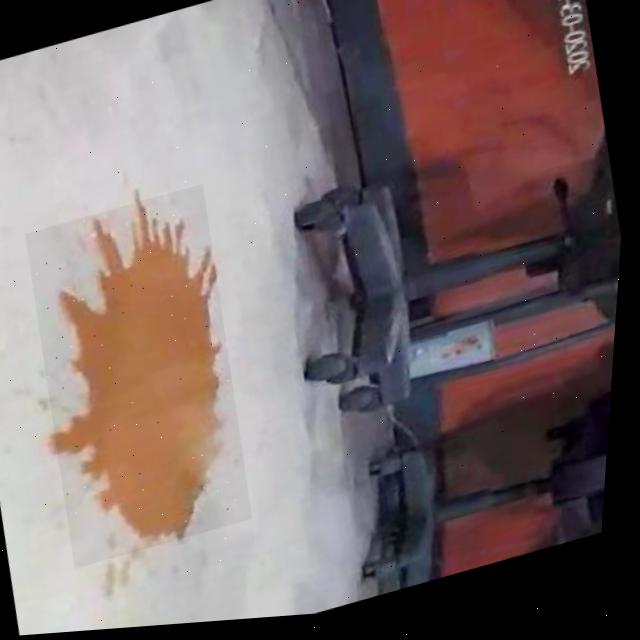spillage: (59, 205, 222, 545)
